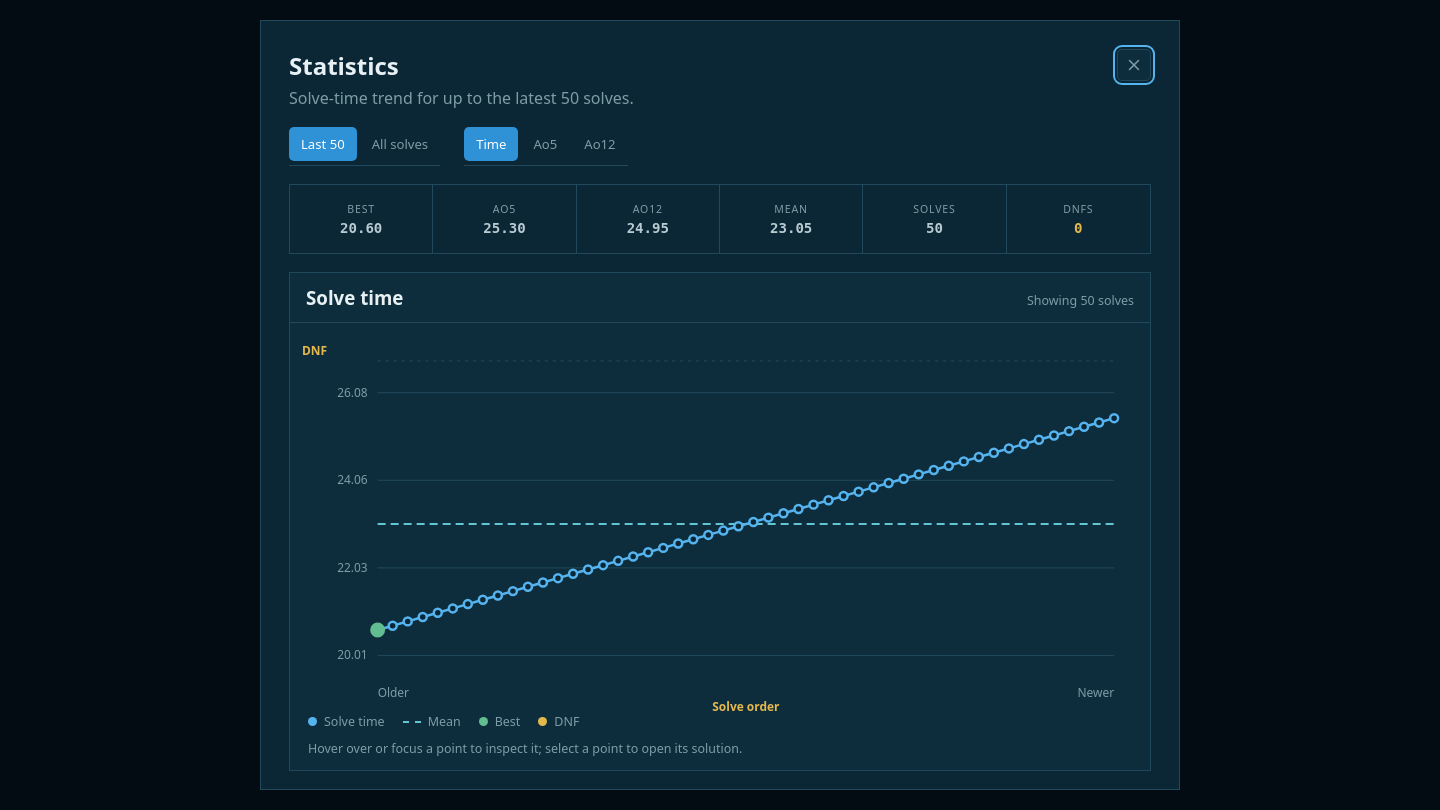
Scenario: StatisticsModal › loads all cursor pages, deduplicates entries, updates the selected-range summary, and reuses cached ranges
expect the button "Solve 1:" is shown: met, box 372,624 -> 384,636
Click the button "All solves". click: (400,144)
box: 360,127 -> 440,161
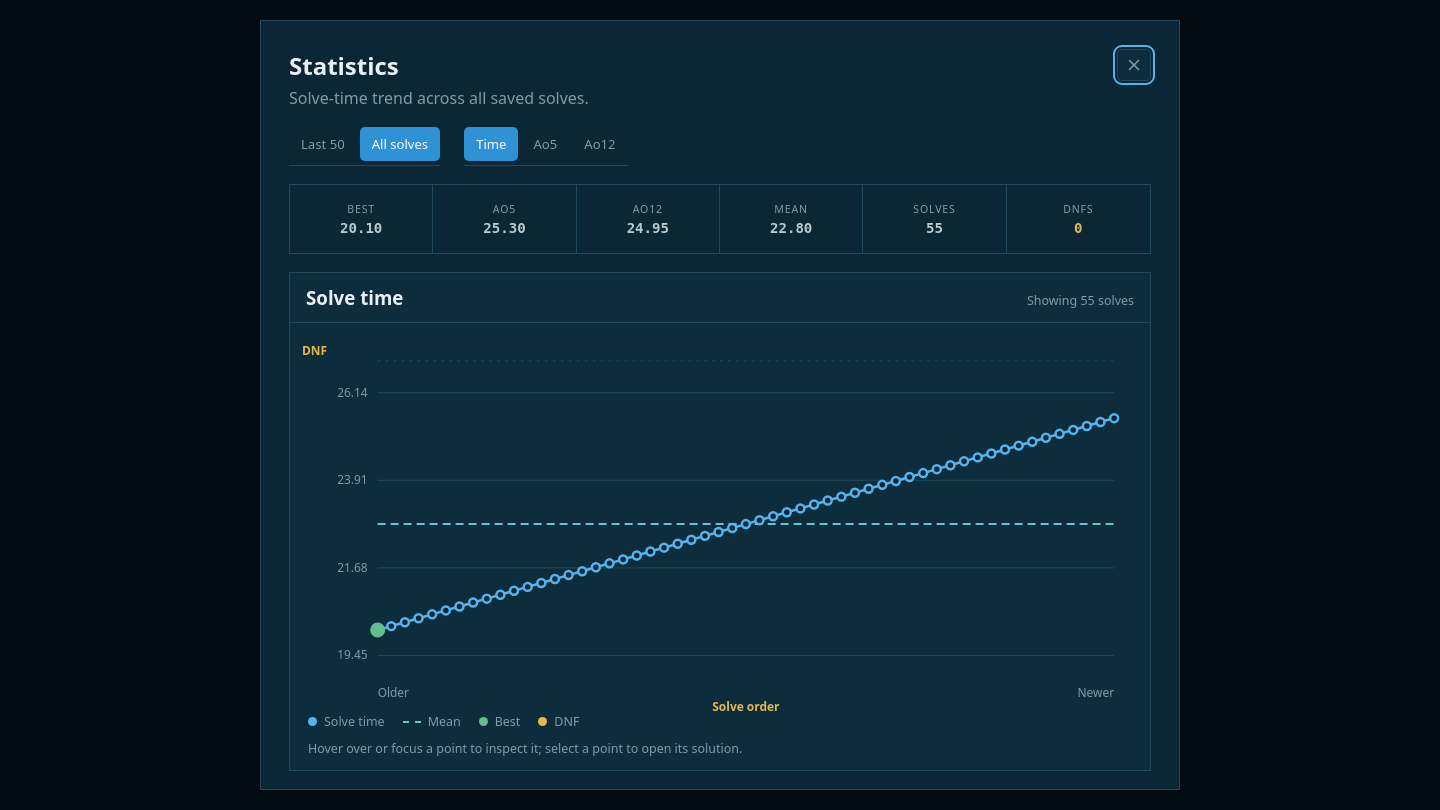
expect the text "Showing 55 solves" is shown: met, box 1027,292 -> 1134,309
Click the button "Last 50". click: (323,144)
box: 289,127 -> 357,161
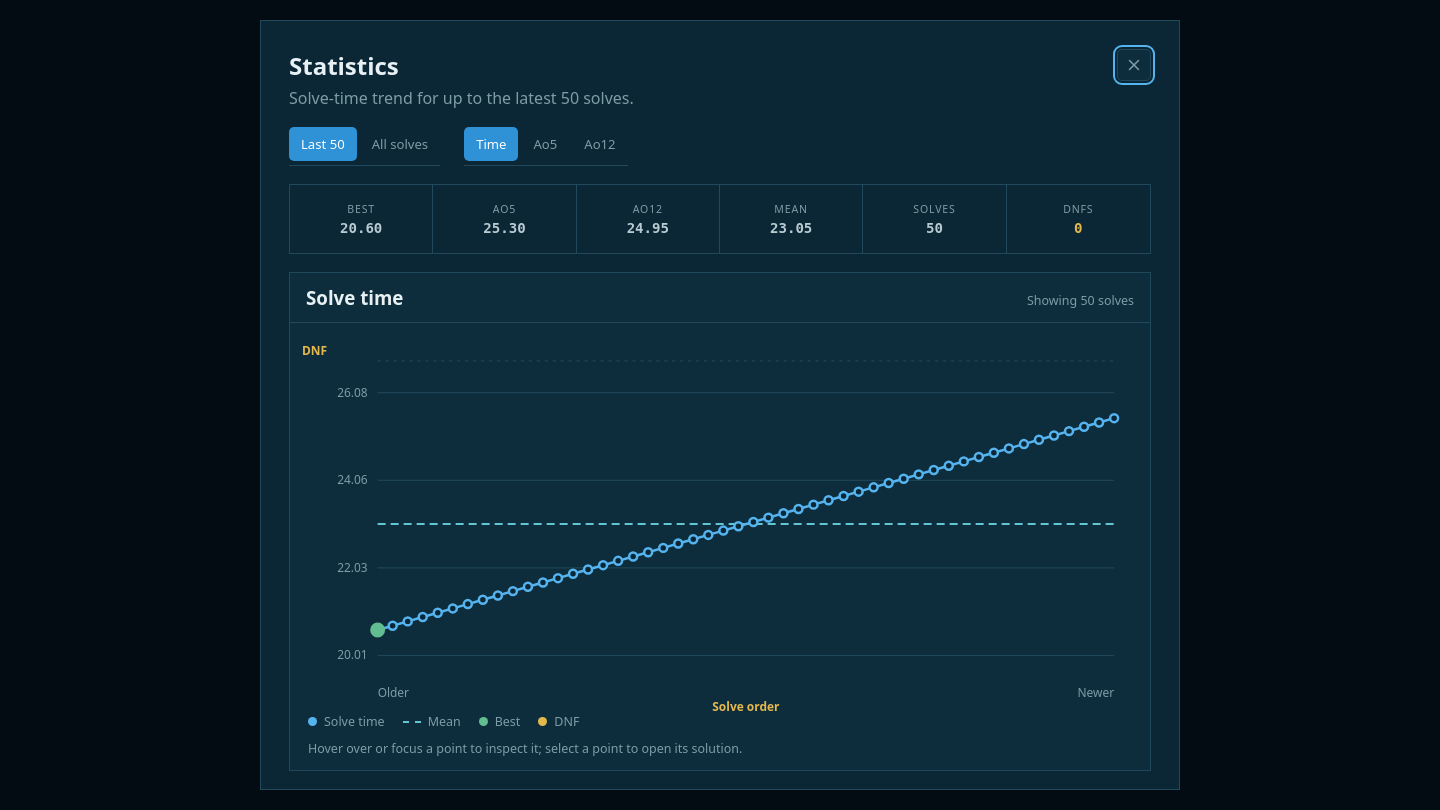
expect the text "Showing 50 solves" is shown: met, box 1027,292 -> 1134,309
